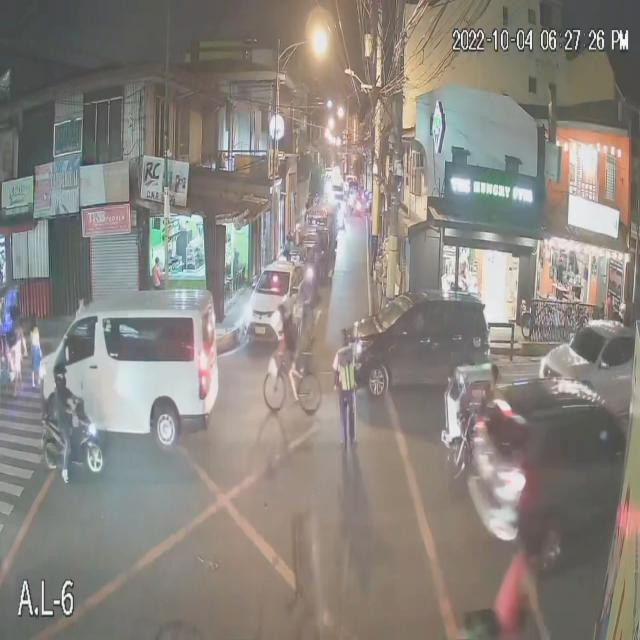Full-Faced: (50, 360, 70, 389)
